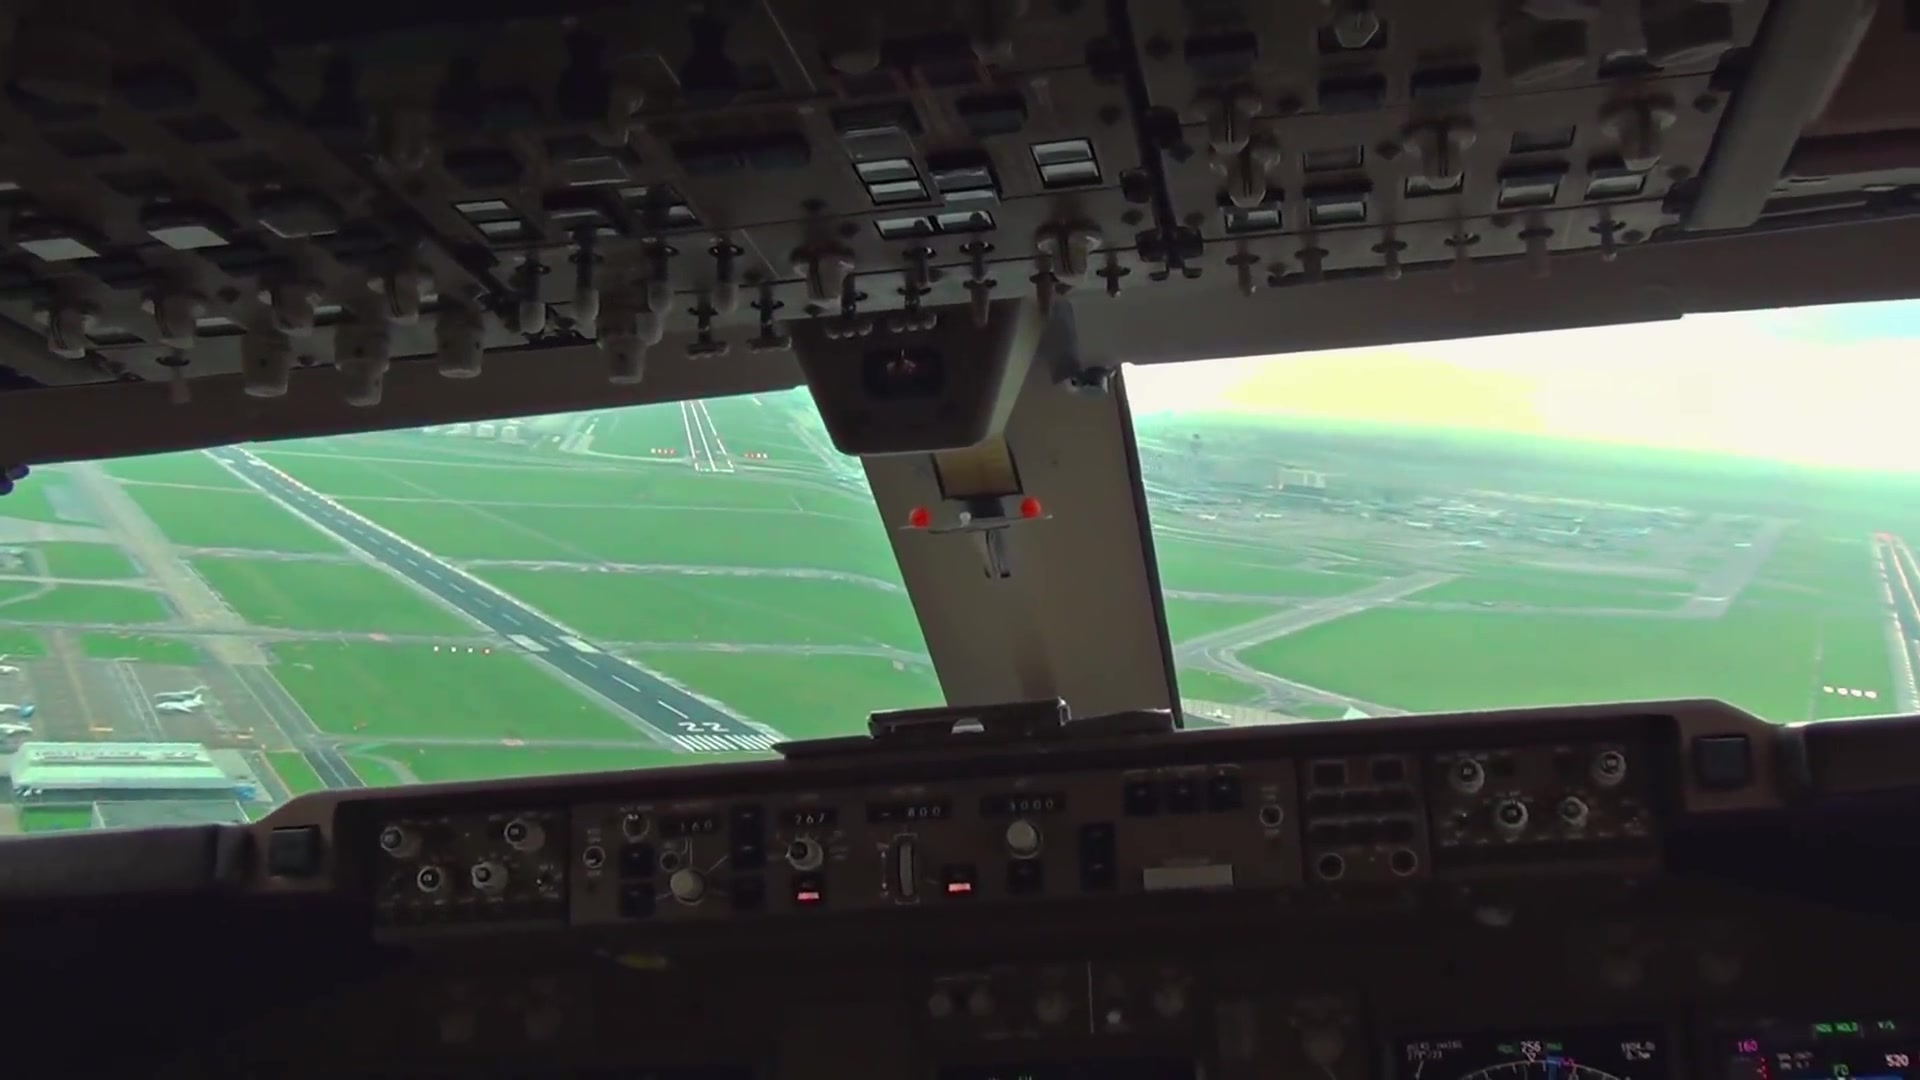entrance: (662, 731, 786, 753)
runway: (214, 440, 800, 766), (676, 404, 741, 473)
